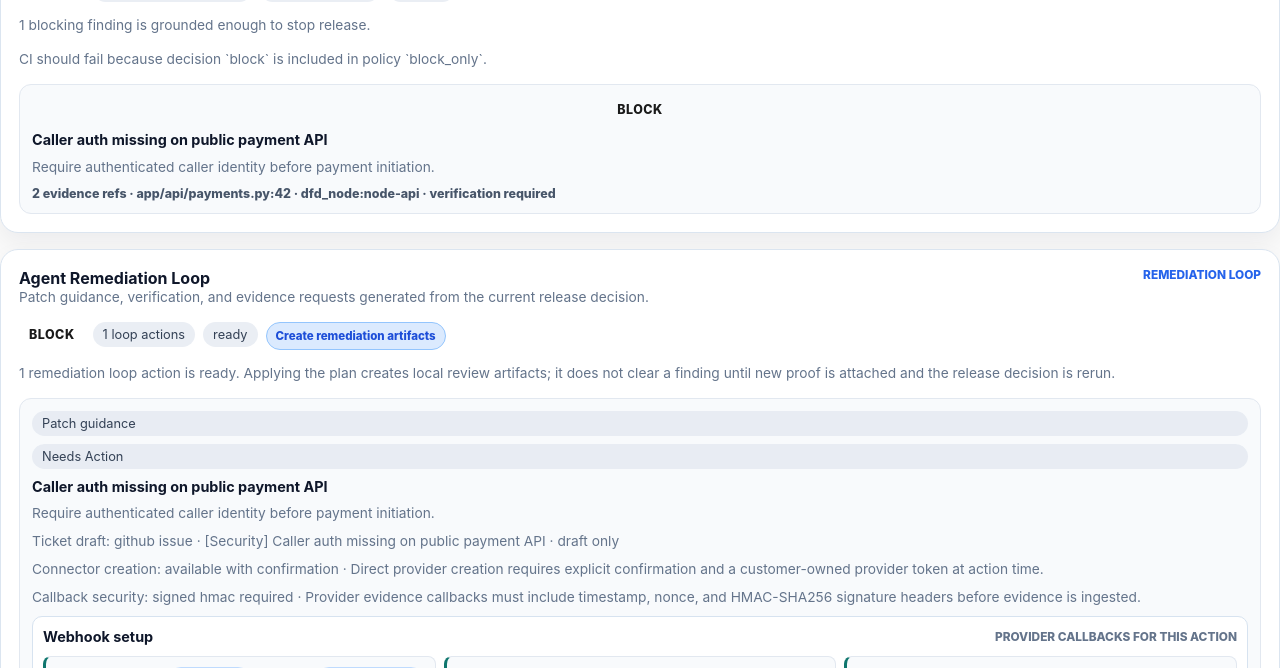
Test: SecurityReviewReportPanel › creates remediation artifacts from the agent remediation loop
This screenshot has width=1280, height=668.
(page scrolled)
Click the button "Create remediation artifacts" at x=356, y=336, box x1=266 y1=322 x2=446 y2=350
(page scrolled)
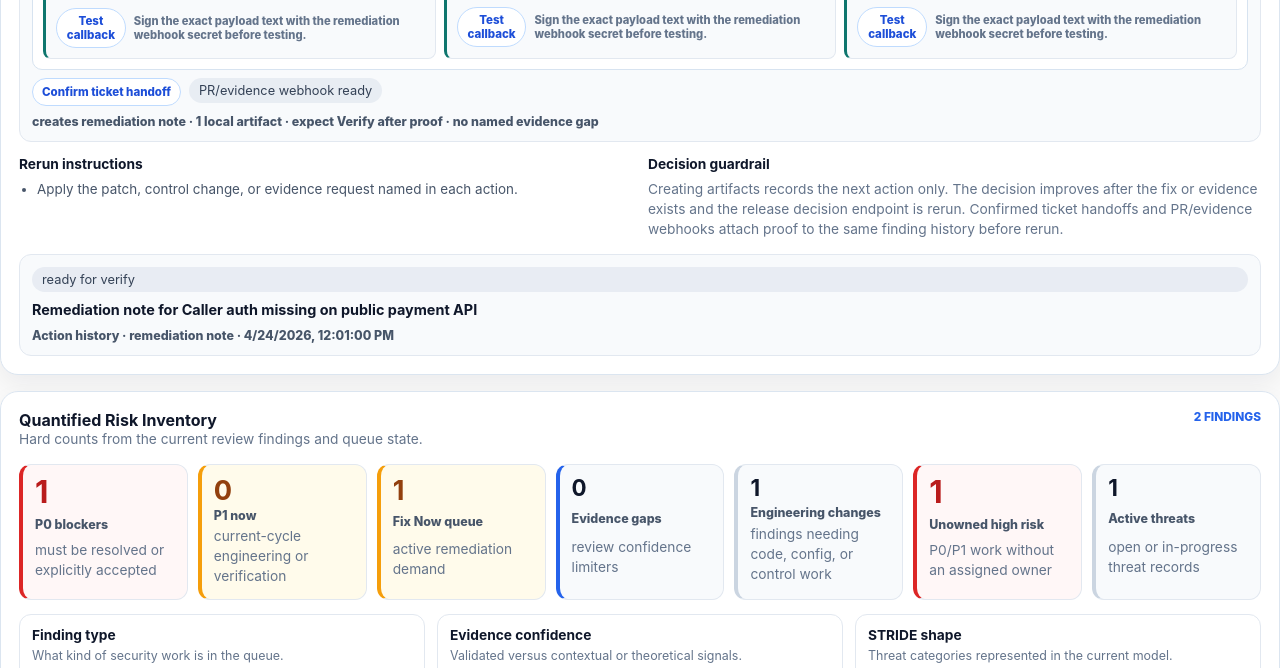
Now the text "Action history · remediation note · 4/24/2026, 12:01:00 PM" is shown, box x1=32 y1=328 x2=394 y2=343
